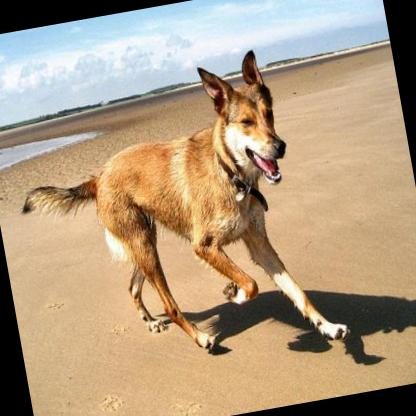kelpie: (0, 38, 352, 392)
